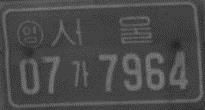0: (19, 56, 41, 95)
4: (167, 50, 189, 91)
6: (144, 51, 165, 92)
7: (97, 52, 119, 94), (40, 54, 62, 95)
9: (120, 52, 144, 92)
가: (70, 58, 92, 90)
서울_D: (50, 14, 155, 49)
영: (16, 19, 44, 49)
